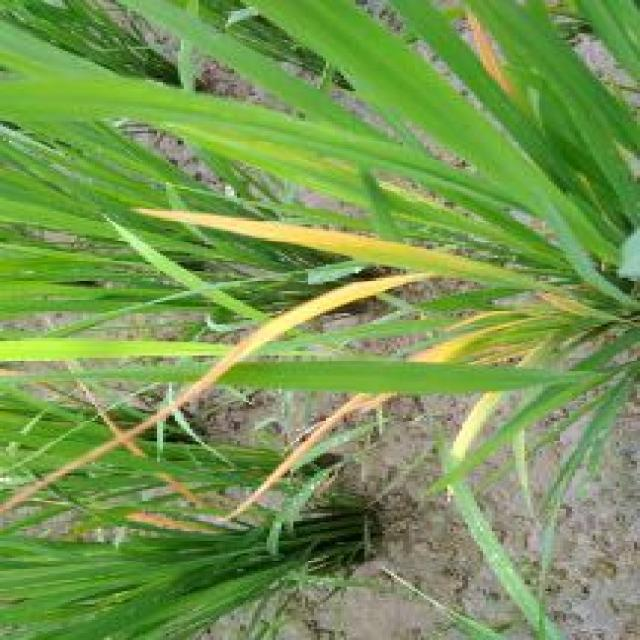Tungro: (127, 190, 474, 287)
